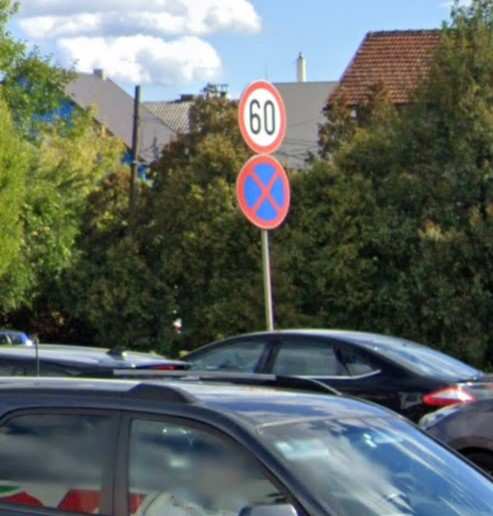Ograničenje brzine 60: (238, 80, 286, 154)
